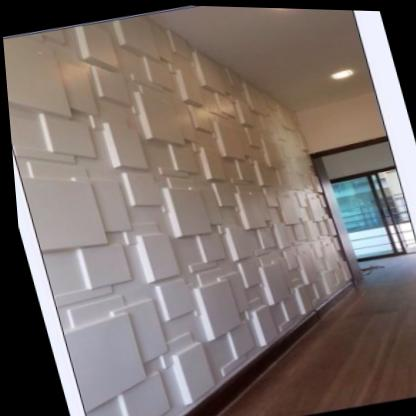Futech tiles: (52, 61, 317, 359)
